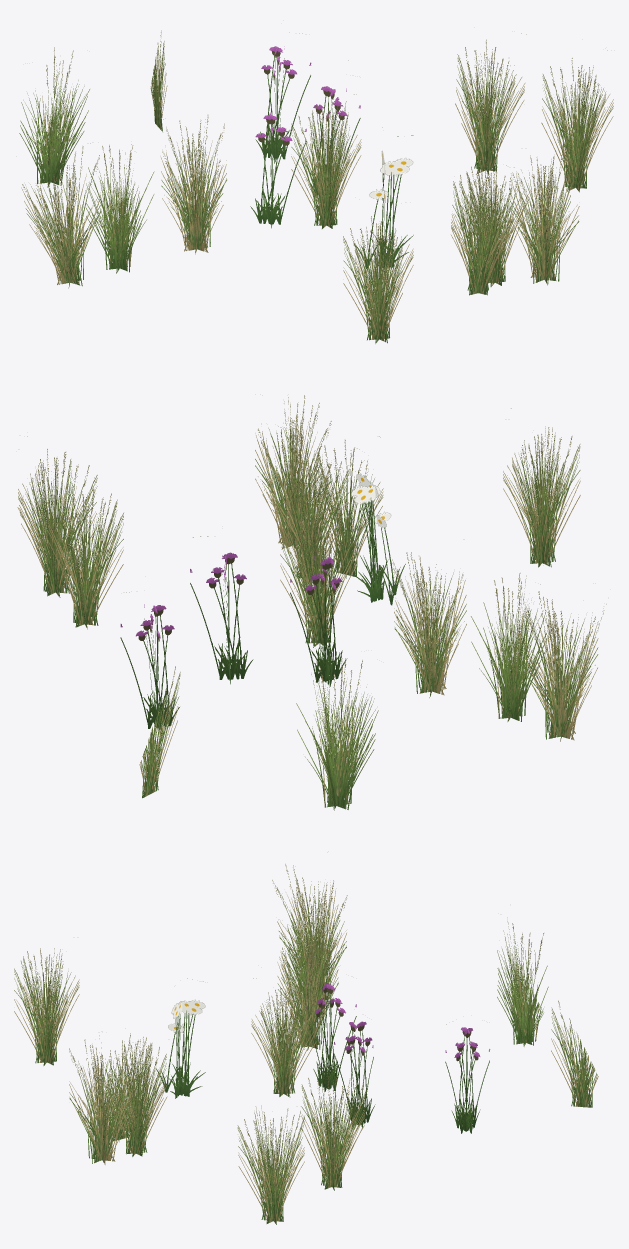
File: meadow_patch.glb
The picture shows the model from 3 angles, top to bottom: view 1: azimuth 30°, elevation 25°; view 2: azimuth 150°, elevation 25°; view 3: azimuth 270°, elevation 25°; orthographic projection. The views are drawn at different scales.
Visible parts, largest first — view 1: Meadow grasses and wildflowers; view 2: Meadow grasses and wildflowers; view 3: Meadow grasses and wildflowers.
Boxes of the visible parts, box(x1,y1,x2,y2) form: Meadow grasses and wildflowers: box(19, 30, 613, 343); Meadow grasses and wildflowers: box(17, 395, 606, 810); Meadow grasses and wildflowers: box(14, 864, 598, 1224).
Size of the model in its own units: 3.46 by 0.8744 by 3.43.
Materials: 1 (1 with a texture image).
